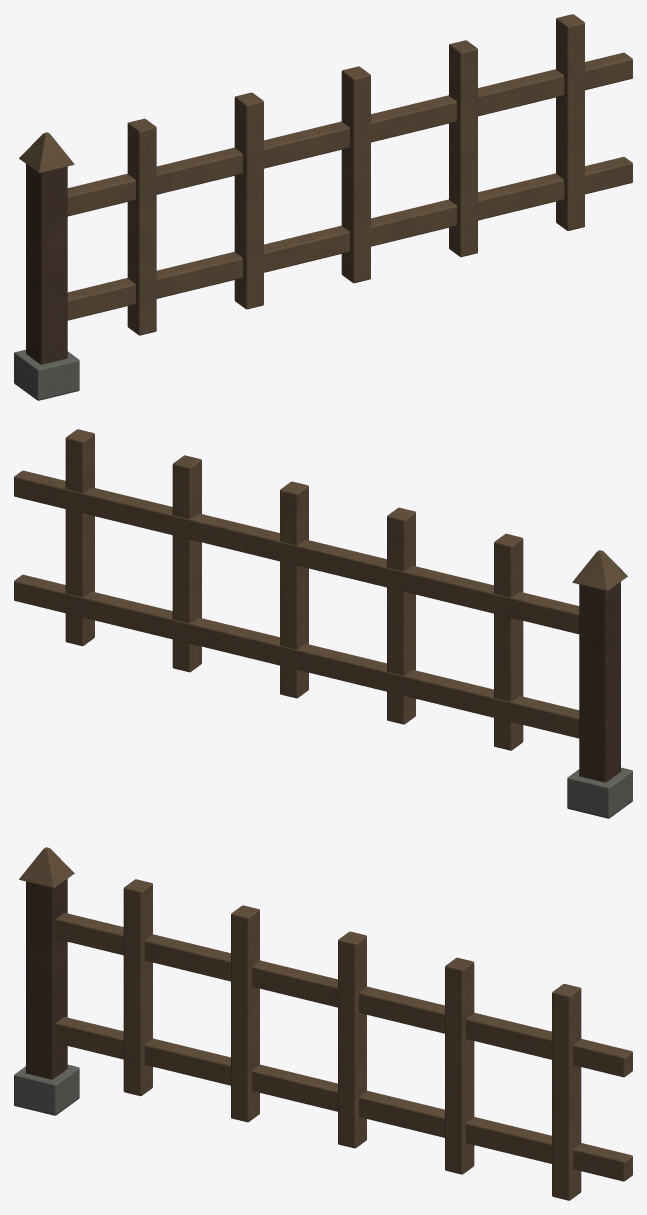
File: Fence_Panel.fbx
3 renders of one model, top to bottom at view 1: azimuth 30°, elevation 25°; view 2: azimuth 150°, elevation 25°; view 3: azimuth 330°, elevation 25°, orthographic.
Parts seen in each view (by area): view 1: Fence_Panel.001; view 2: Fence_Panel.001; view 3: Fence_Panel.001.
Part boxes in pixels (x1=…): Fence_Panel.001: x1=14, y1=14, x2=632, y2=400; Fence_Panel.001: x1=14, y1=429, x2=632, y2=818; Fence_Panel.001: x1=14, y1=847, x2=632, y2=1200.
Bounding box in the file's own units: 4 × 1.61 × 0.28.
